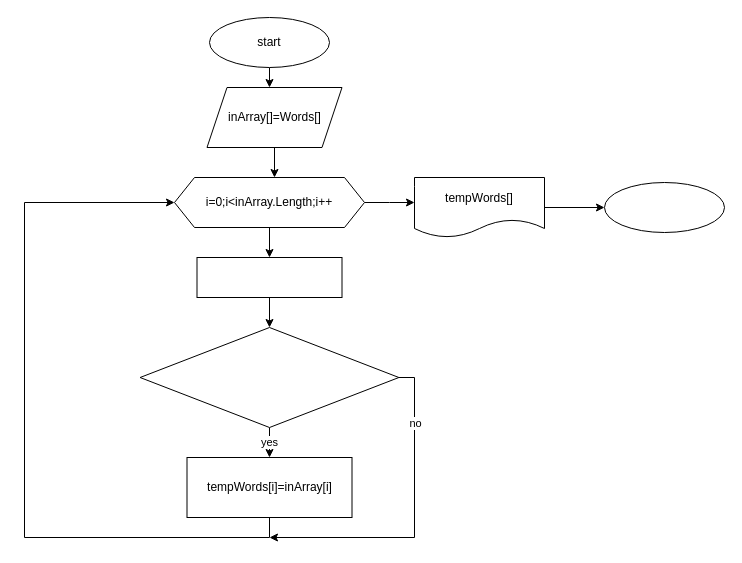
This 742x563 diagram has some shape labels left out. Each missing label, with the centre of its shape:
"(inArray[i].LastIndexOf(s)-1)<=2" goes at (269,377).
"finish" goes at (664,207).
"inArray[i]=inArray[i]+s" goes at (269,277).
